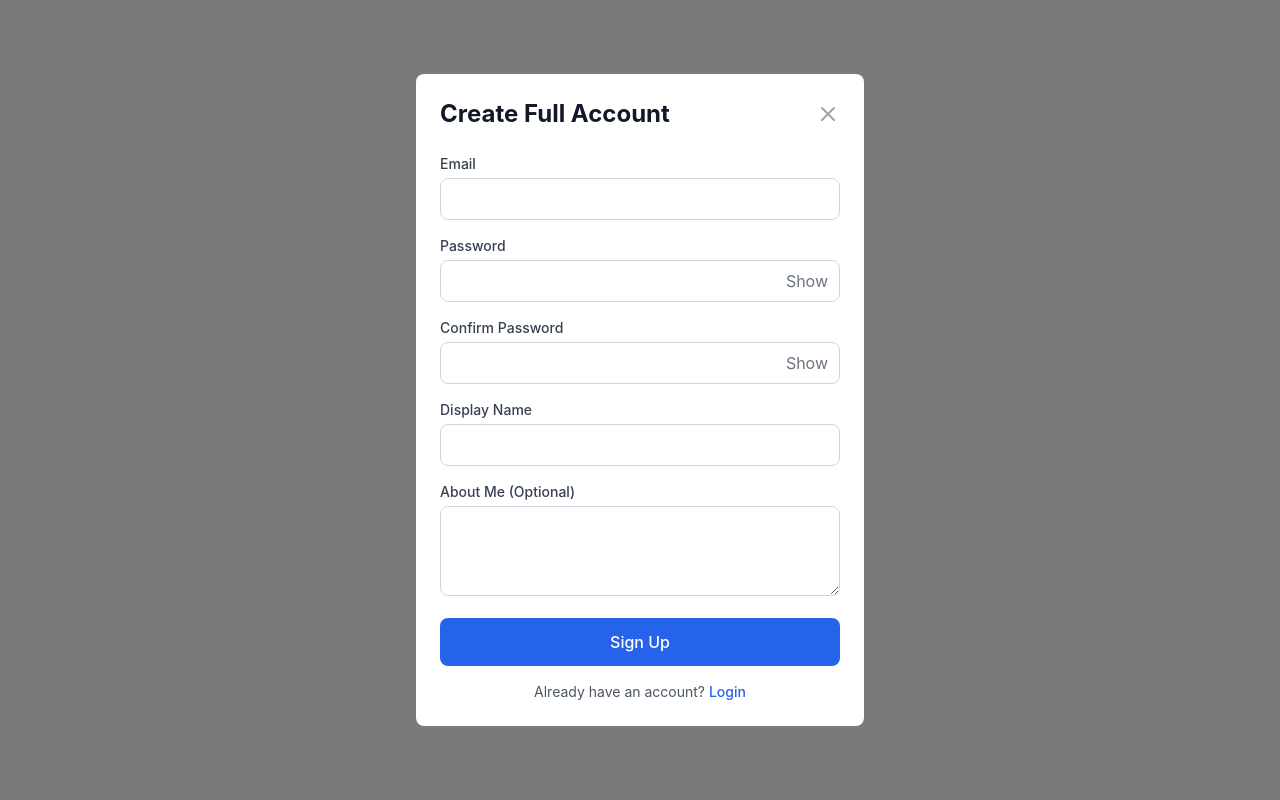
Scenario: SignupModal › Form Validation › should show error for weak password
In the password field labelled "Password": (640, 281) [440,260,840,302], type "weak"
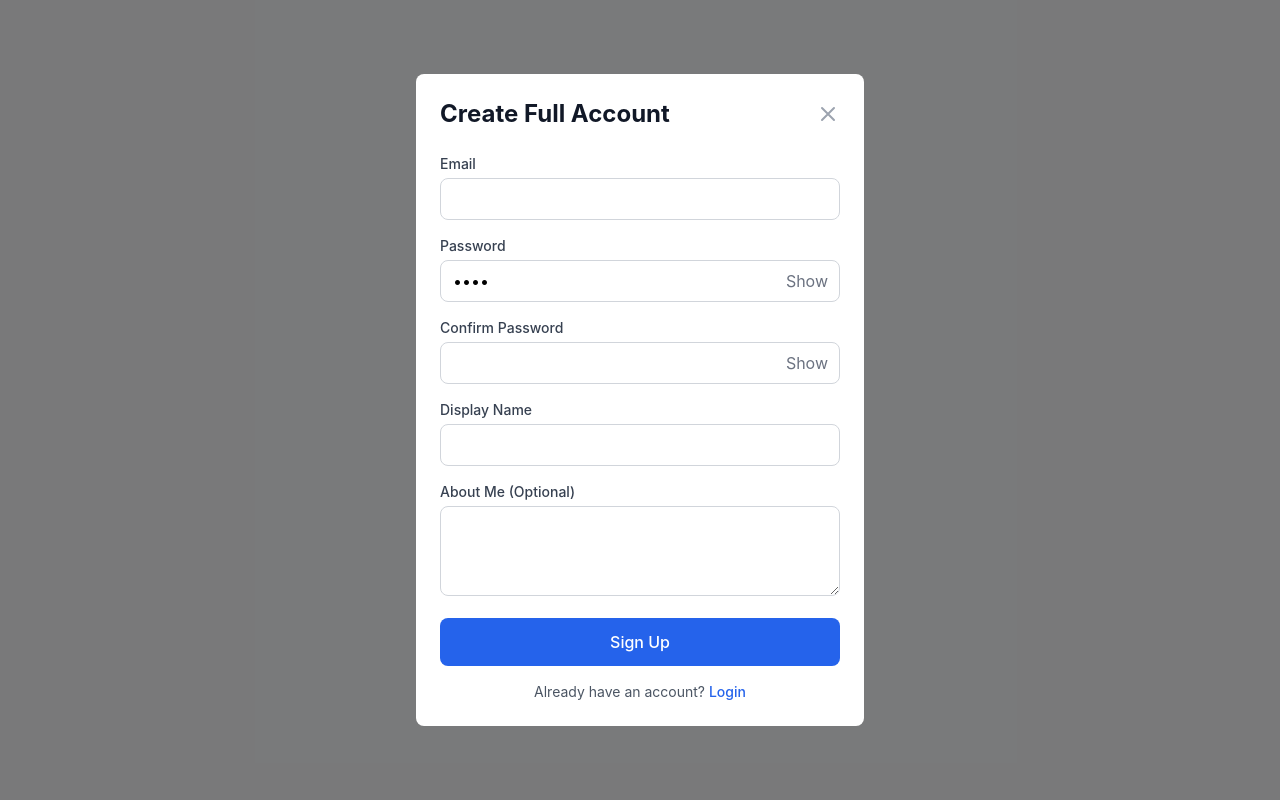
Leave the password field labelled "Password", box [440,260,840,302]
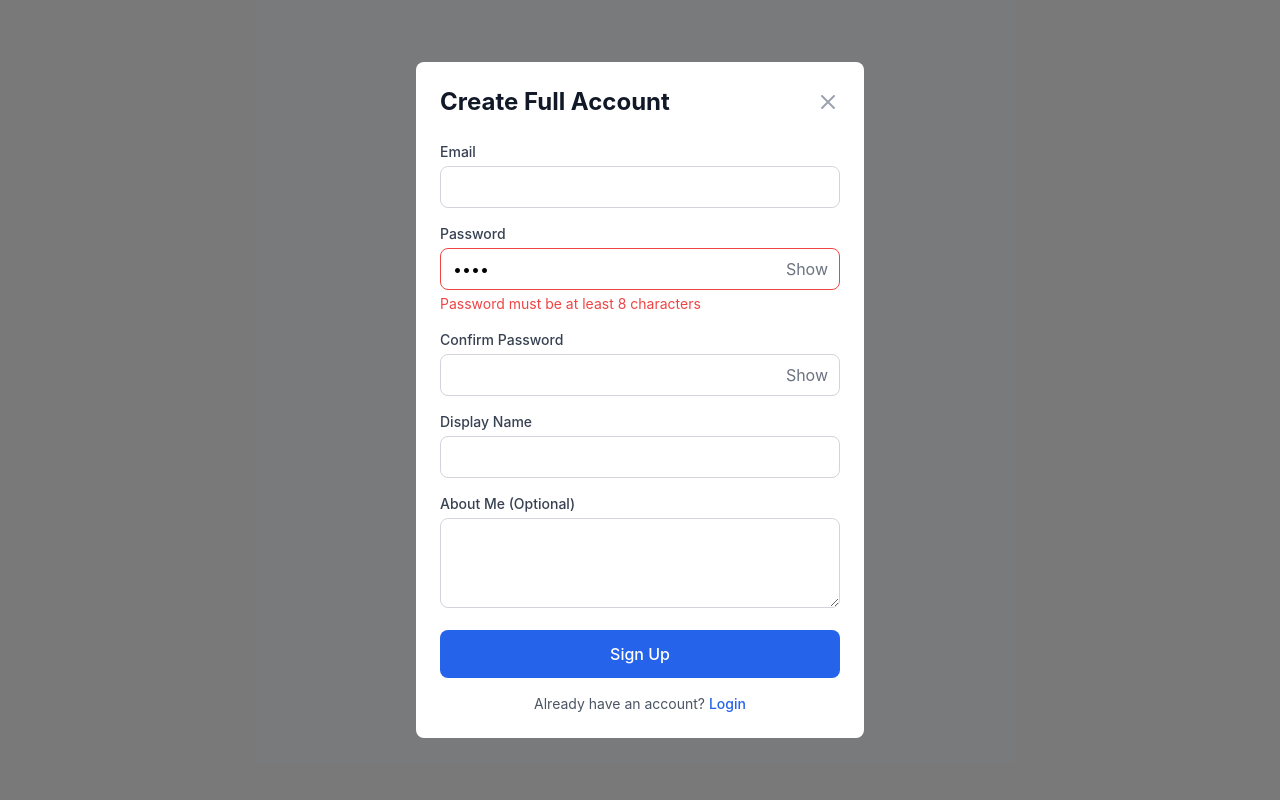
Now the text "Password must be at least 8 characters" is shown, box [440,295,701,312]
